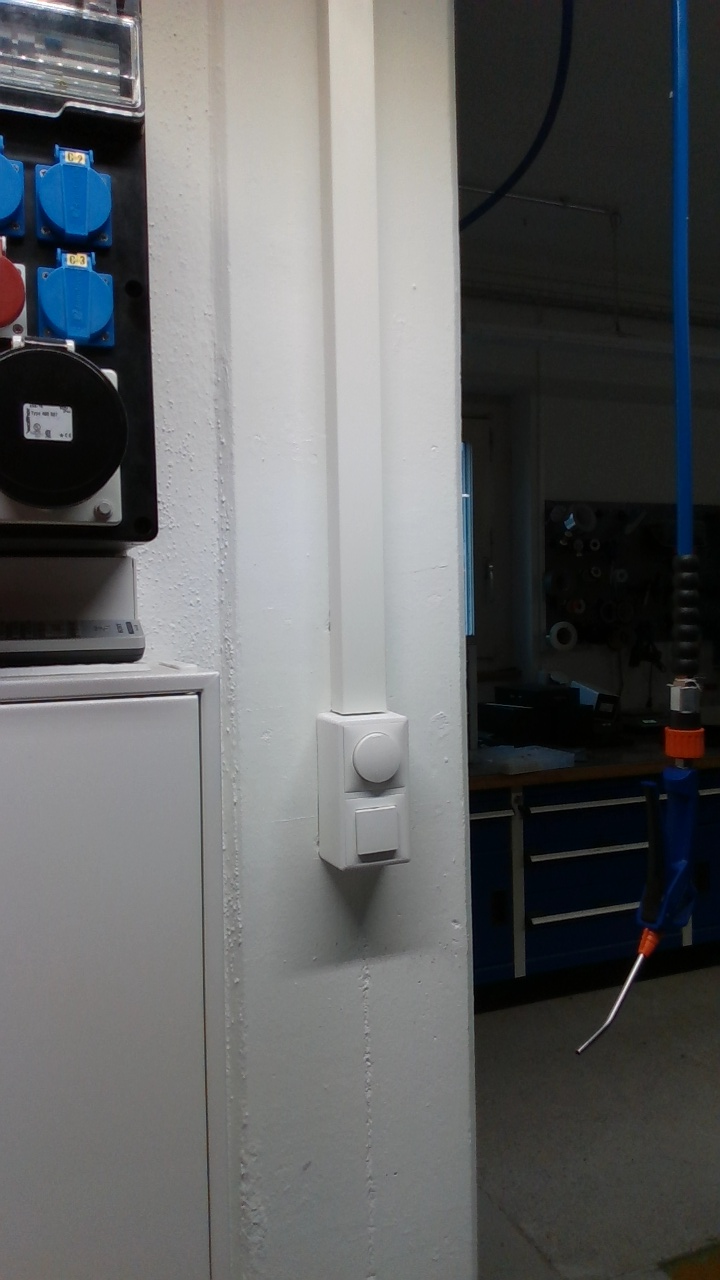Light_Switch: (341, 794, 411, 868), (339, 717, 408, 790)
